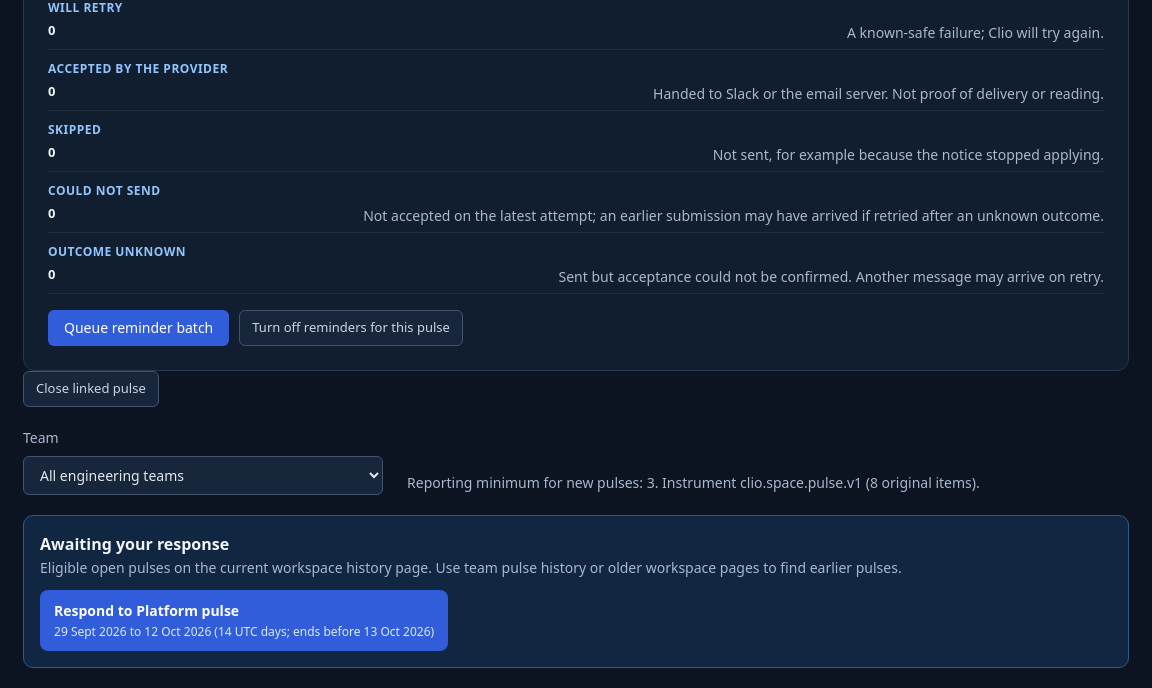
Test case: owner aggregate delivery controls › shows a conflict plainly and refreshes instead of claiming reminders were queued
(page scrolled)
Click the button "Queue reminder batch".
click(139, 328)  # box [48, 310, 229, 346]
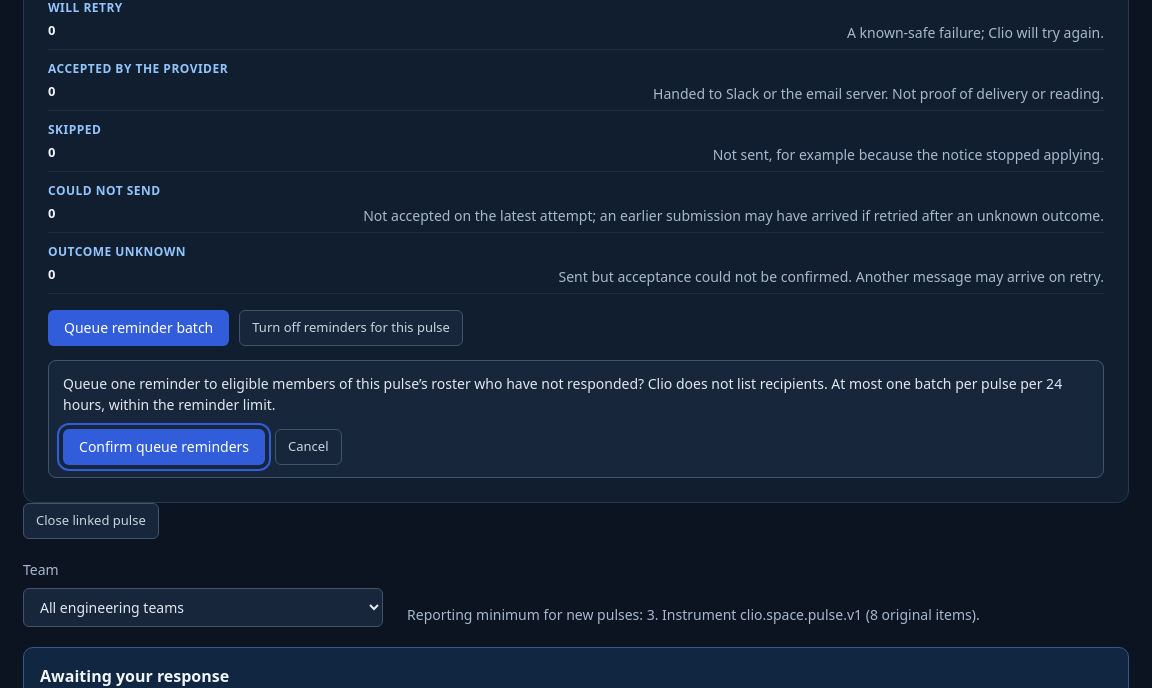
Click the button "Confirm queue reminders".
click(164, 447)  # box [63, 429, 265, 465]
(page scrolled)
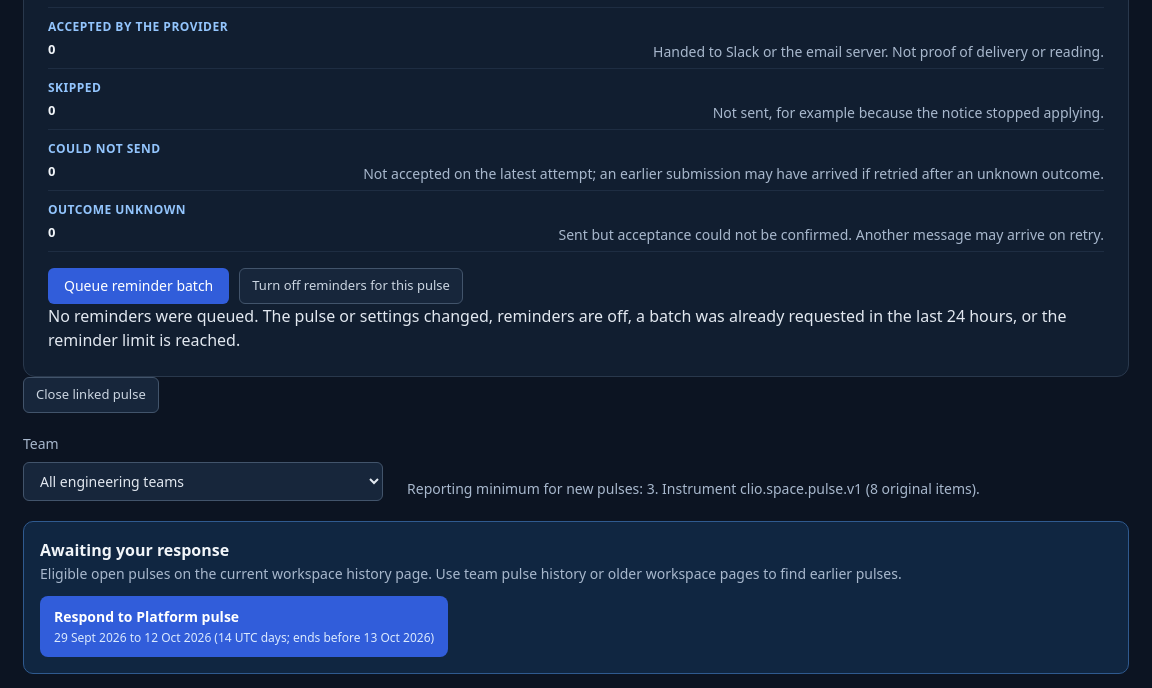
Check: the message shows "No reminders were queued", box [48, 305, 1066, 351]
